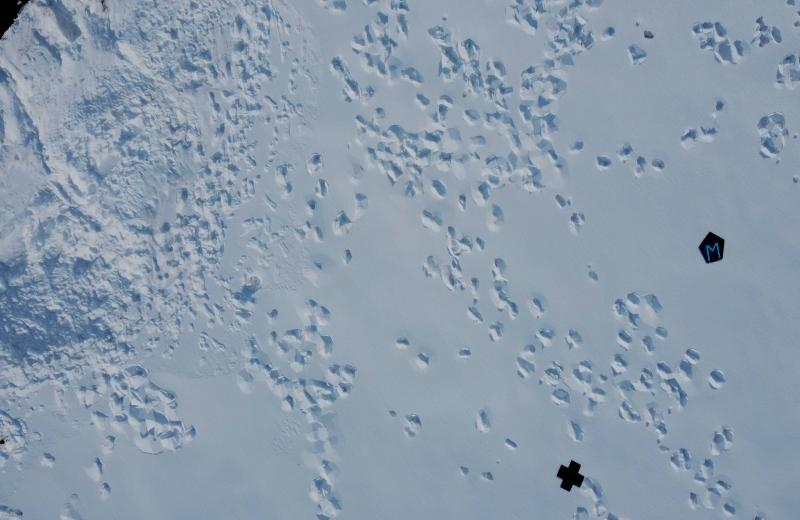Cross: (556, 456, 586, 494)
Pentagon: (694, 228, 729, 267)
